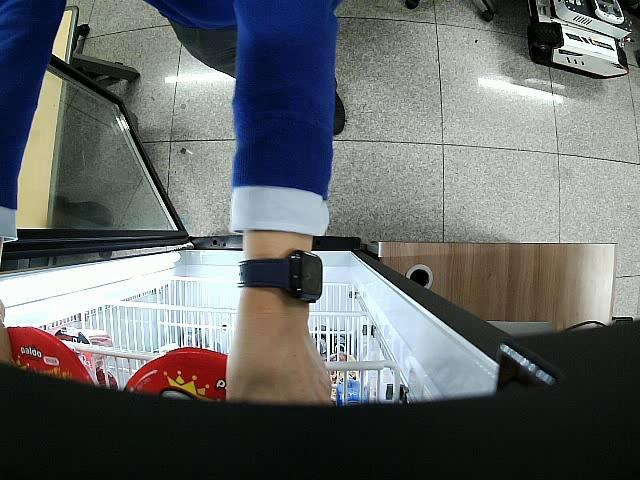10_wangTtukkeong: (123, 347, 229, 401), (8, 326, 100, 386)
